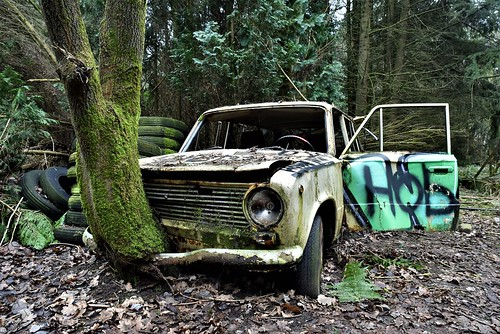car: (142, 91, 471, 293)
graffiti: (337, 151, 463, 233)
vegetation: (10, 1, 500, 132)
